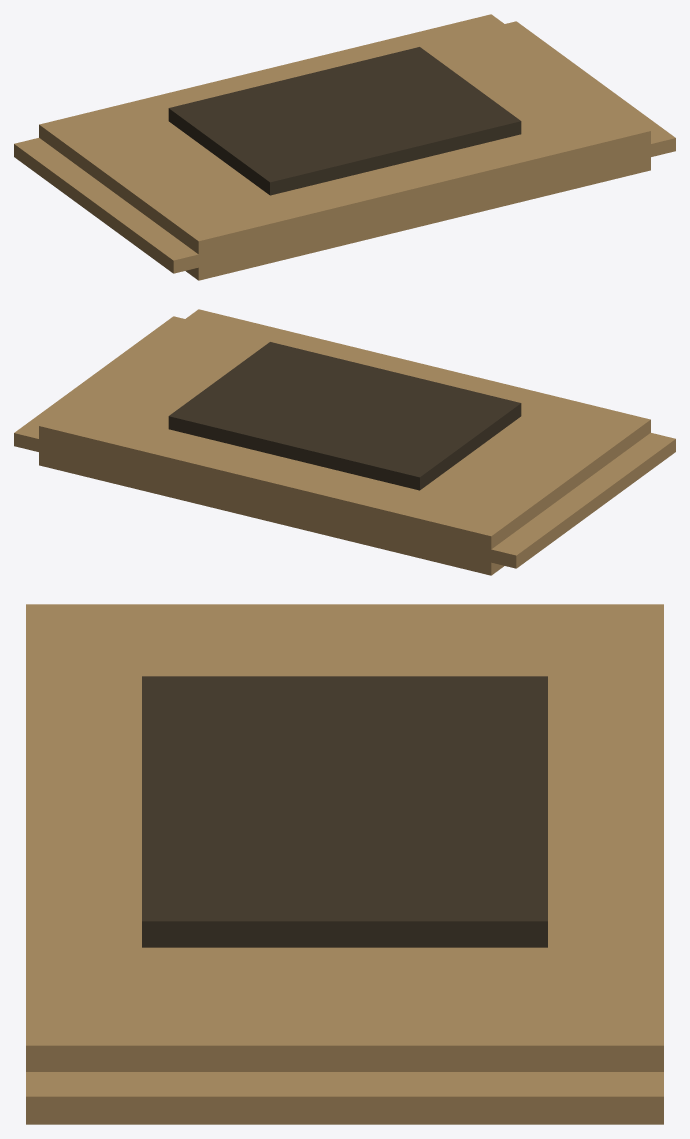
Rendered from mre_bag_spread.glb.
3 renders of one model, top to bottom at view 1: azimuth 30°, elevation 25°; view 2: azimuth 150°, elevation 25°; view 3: azimuth 270°, elevation 25°, orthographic. The views are drawn at different scales.
Visible parts, largest first — view 1: mre_bag_spread:compound; view 2: mre_bag_spread:compound; view 3: mre_bag_spread:compound.
Boxes of the visible parts, <box> form: mre_bag_spread:compound: <box>14,14,675,280</box>; mre_bag_spread:compound: <box>14,309,675,575</box>; mre_bag_spread:compound: <box>26,604,663,1124</box>.
Bounding box in the file's own units: 0.08 × 0.008 × 0.044.
